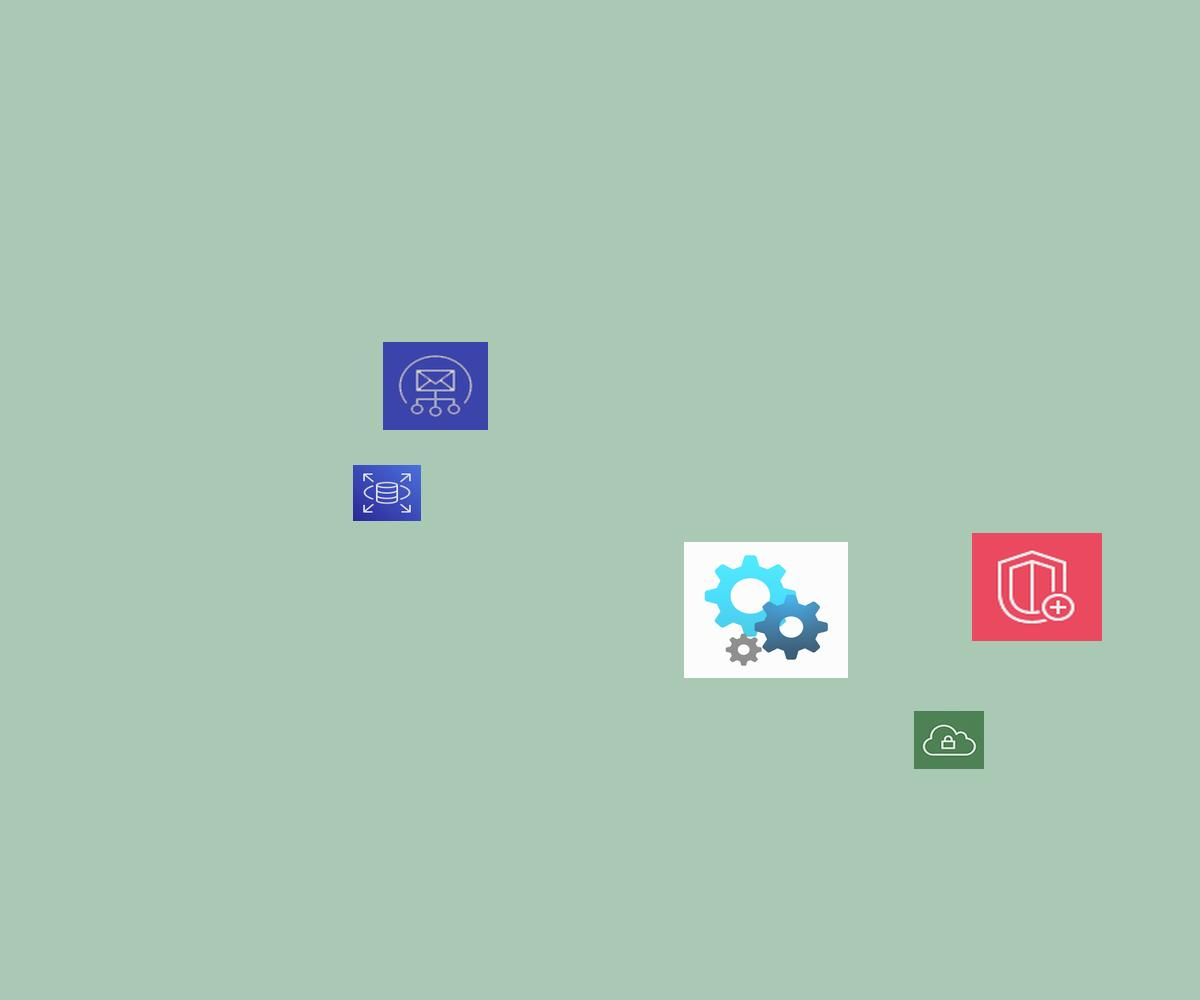AWS-Private_vpc: (914, 711, 984, 769)
AWS-RDS: (353, 465, 421, 521)
AWS-Shield: (972, 533, 1102, 641)
AWS-Simple-Email-Service: (383, 342, 488, 430)
Azure_api: (684, 542, 848, 678)
